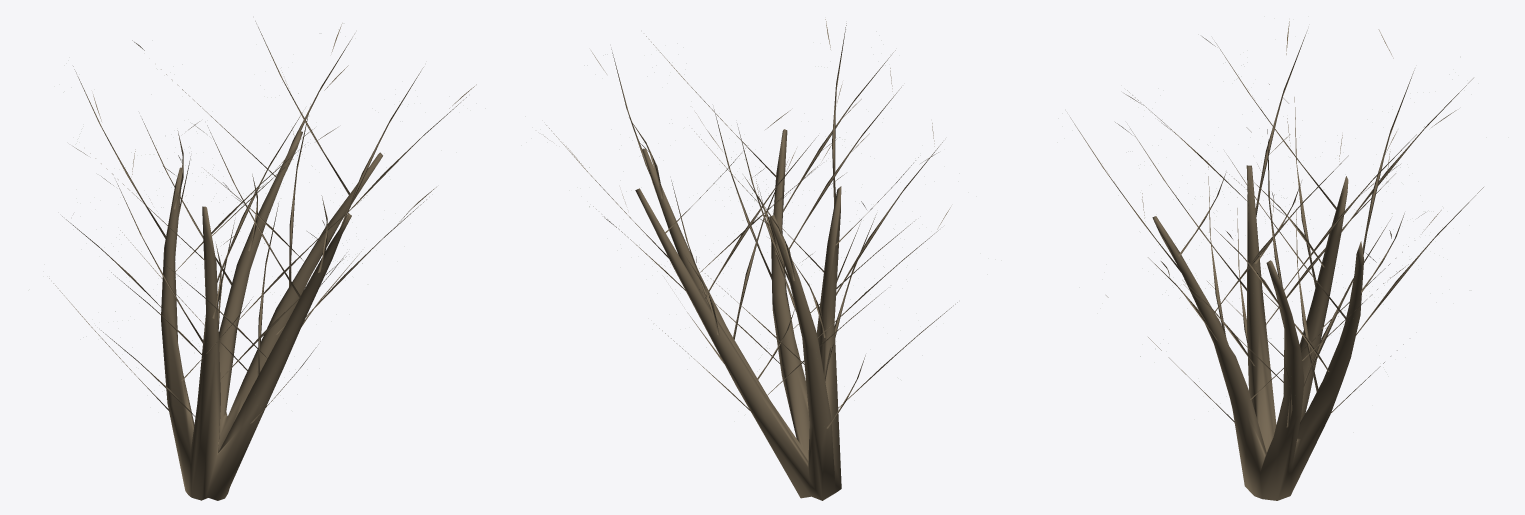
File: Filaire_2_Niveau2.fbx
3 renders of one model, left to right at view 1: azimuth 30°, elevation 25°; view 2: azimuth 150°, elevation 25°; view 3: azimuth 270°, elevation 25°, orthographic. The views are drawn at different scales.
Visible parts, largest first — view 1: Filaire_2_Niveau2; view 2: Filaire_2_Niveau2; view 3: Filaire_2_Niveau2.
Part boxes in pixels (x1,y1,x2,y2): Filaire_2_Niveau2: [49, 21, 476, 500]; Filaire_2_Niveau2: [544, 19, 957, 500]; Filaire_2_Niveau2: [1070, 21, 1483, 500].
Size of the model in its own units: 153 by 152 by 144.
